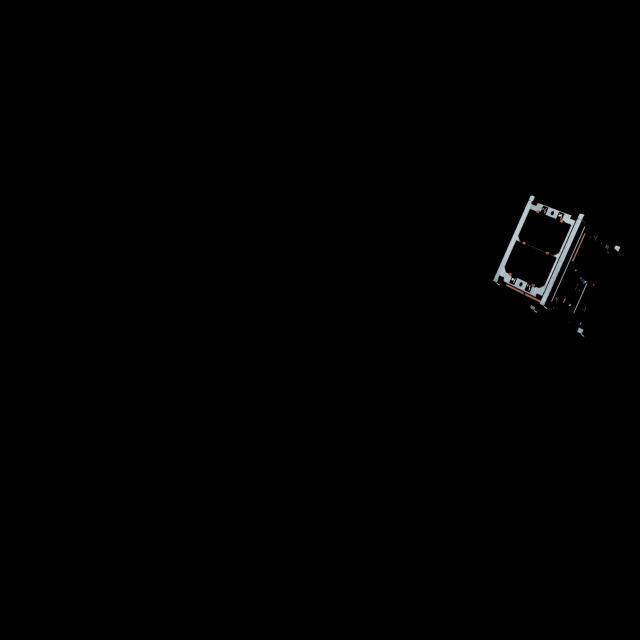satellite: (494, 191, 634, 350)
